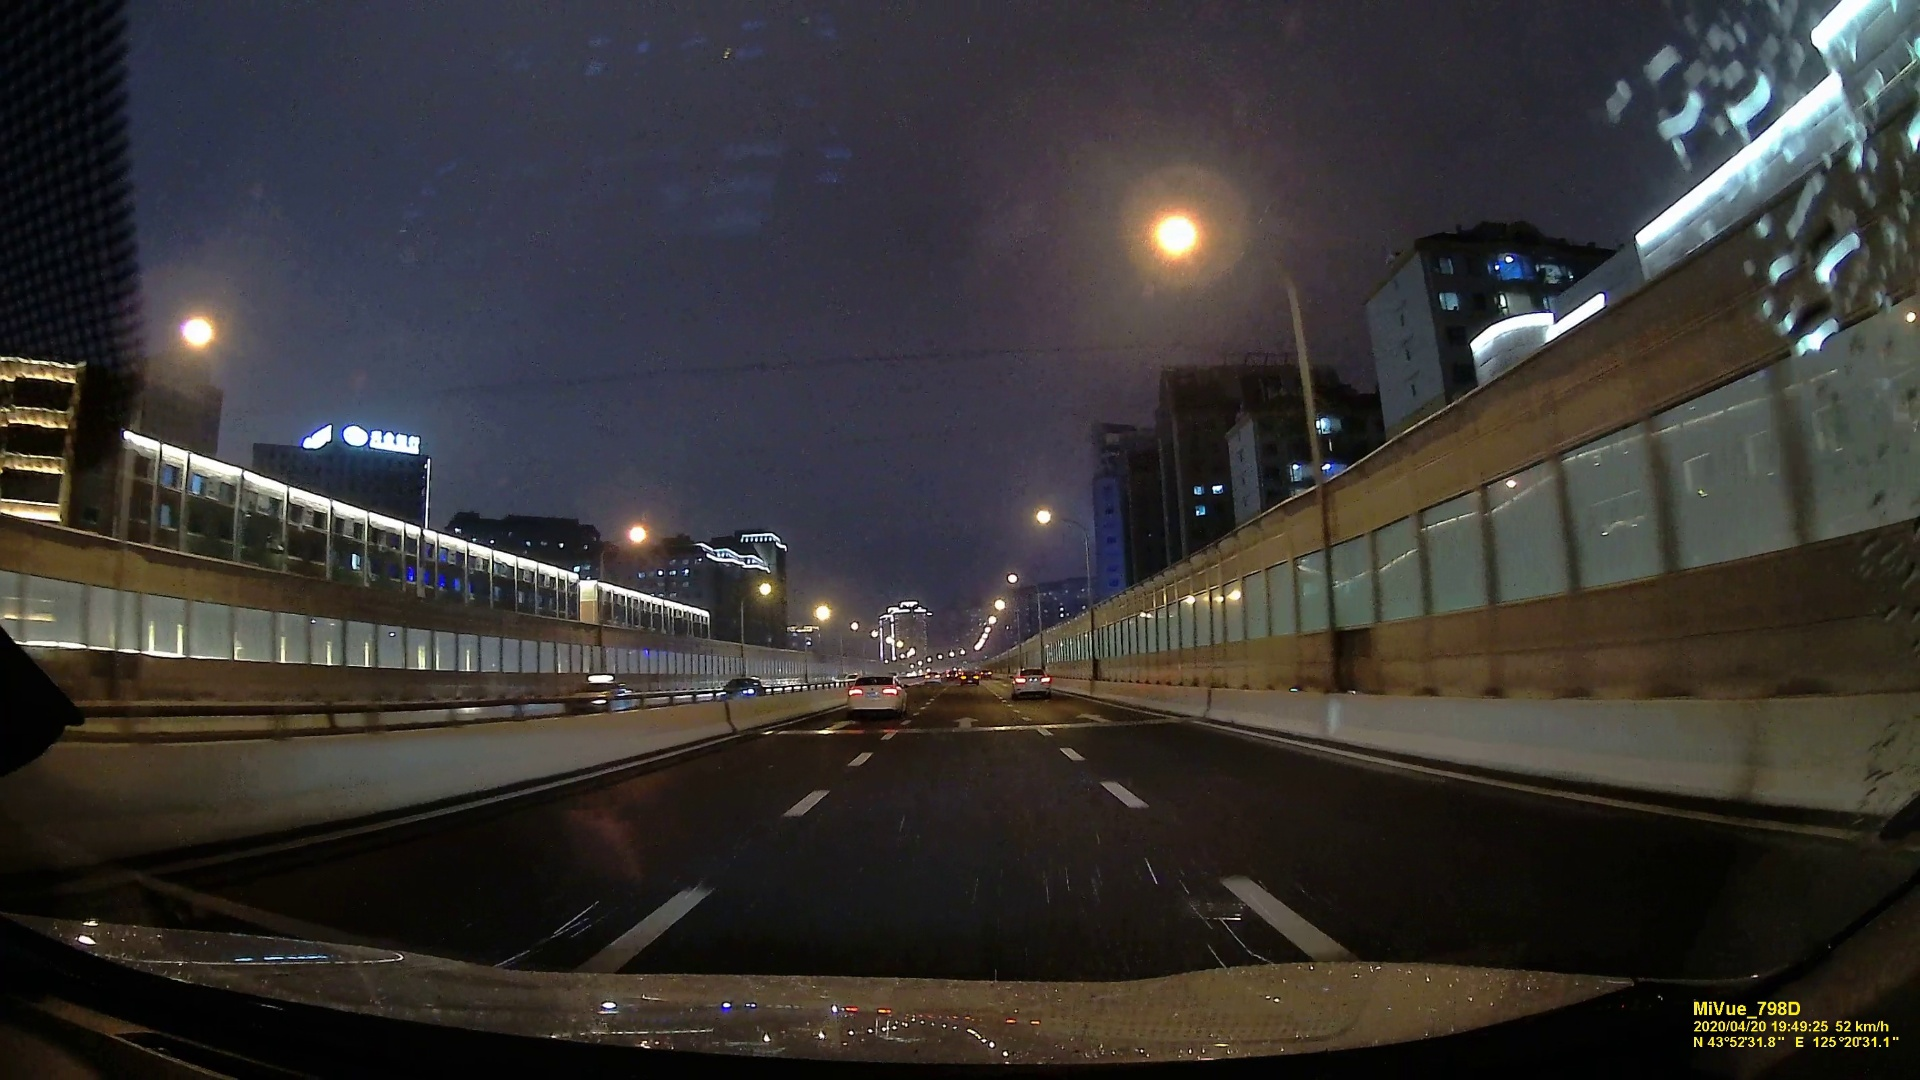vehicle: (843, 674, 906, 716), (563, 679, 634, 713), (713, 674, 766, 702), (1014, 666, 1054, 698), (960, 669, 978, 686), (924, 670, 942, 683)
